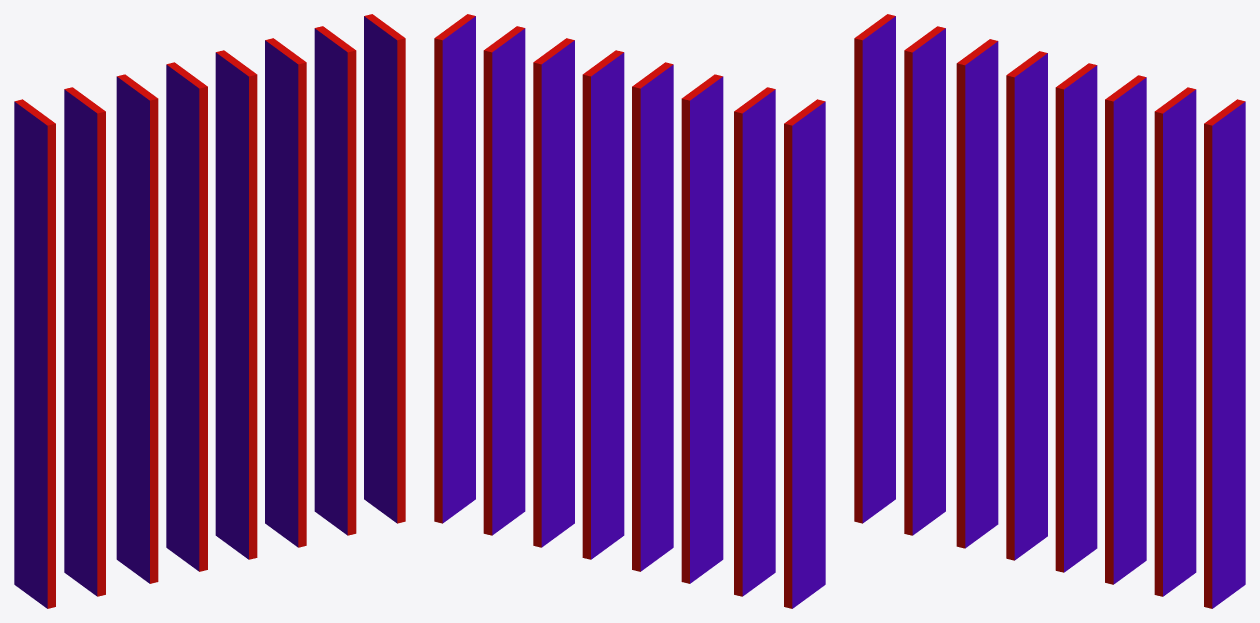
File: shaderVertical.fbx
3 renders of one model, left to right at view 1: azimuth 30°, elevation 25°; view 2: azimuth 150°, elevation 25°; view 3: azimuth 330°, elevation 25°, orthographic.
Visible parts, largest first — view 1: shaderVertical; view 2: shaderVertical; view 3: shaderVertical.
Part boxes in pixels (bbox=[...]): shaderVertical: bbox=[14, 14, 405, 608]; shaderVertical: bbox=[434, 14, 825, 608]; shaderVertical: bbox=[854, 14, 1245, 608].
Size of the model in its own units: 1000 by 1290 by 161.
